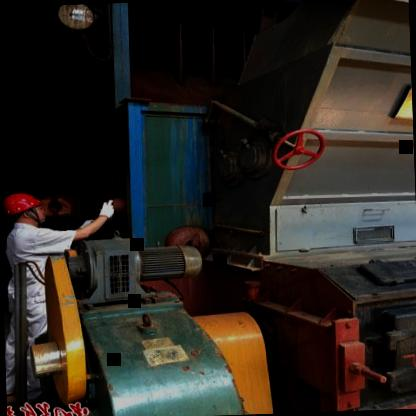helmet: (0, 190, 50, 228)
